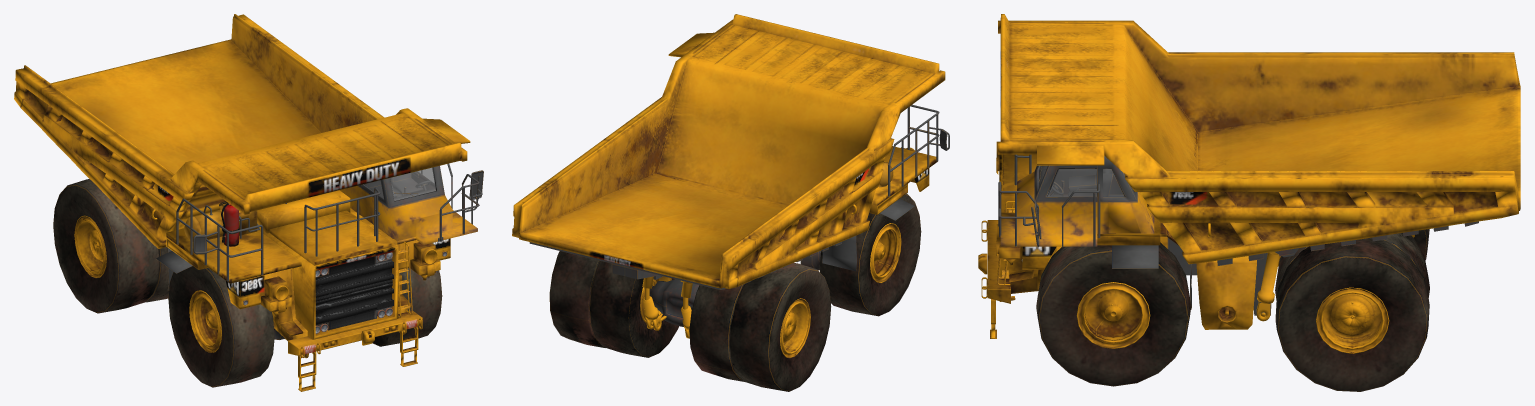
Rendered from harvester.glb.
The picture shows the model from 3 angles, left to right: view 1: azimuth 30°, elevation 25°; view 2: azimuth 150°, elevation 25°; view 3: azimuth 270°, elevation 25°; orthographic projection. The views are drawn at different scales.
Visible parts, largest first — view 1: Caterpillar789c, Glass; view 2: Caterpillar789c; view 3: Caterpillar789c, Glass.
Boxes of the visible parts, x1,y1,x2,y2 form: Caterpillar789c: [14, 14, 483, 391]; Glass: [364, 167, 435, 200]; Caterpillar789c: [512, 14, 949, 391]; Caterpillar789c: [978, 14, 1520, 391]; Glass: [1039, 165, 1123, 196].
Bounding box in the file's own units: 2.08 × 1.58 × 3.03.
2 materials, 1 textured.
